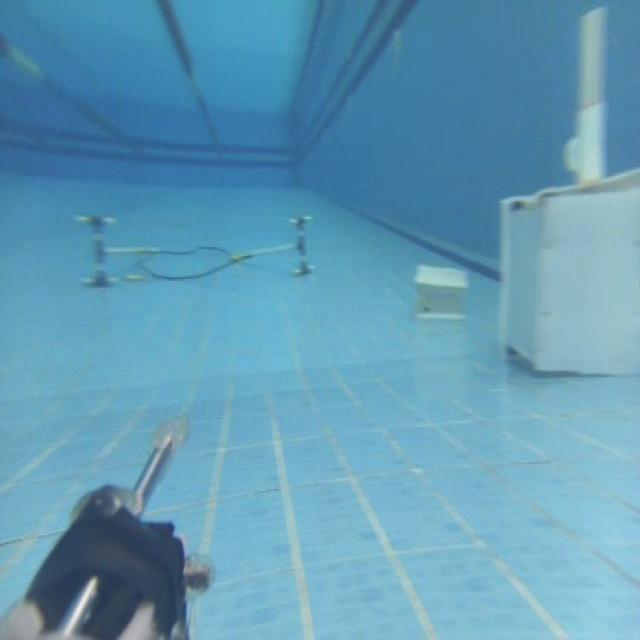Cube: (496, 165, 638, 377)
Cuboid: (413, 261, 469, 320)
